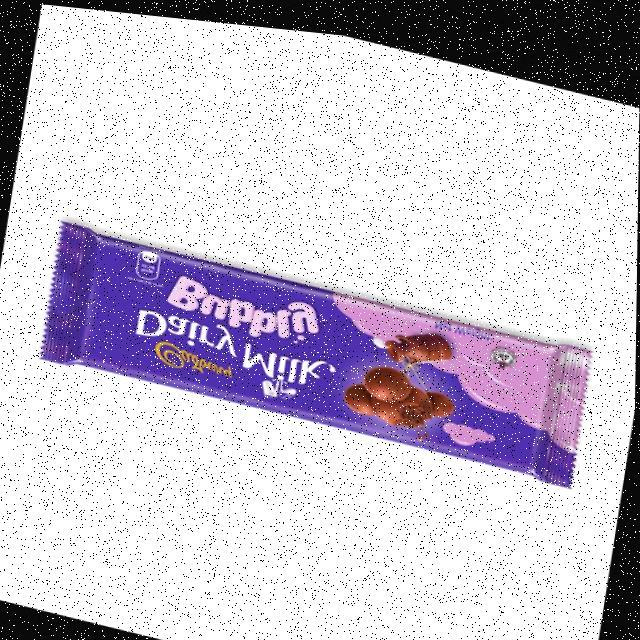cadbury_chocolate: (60, 232, 593, 493)
